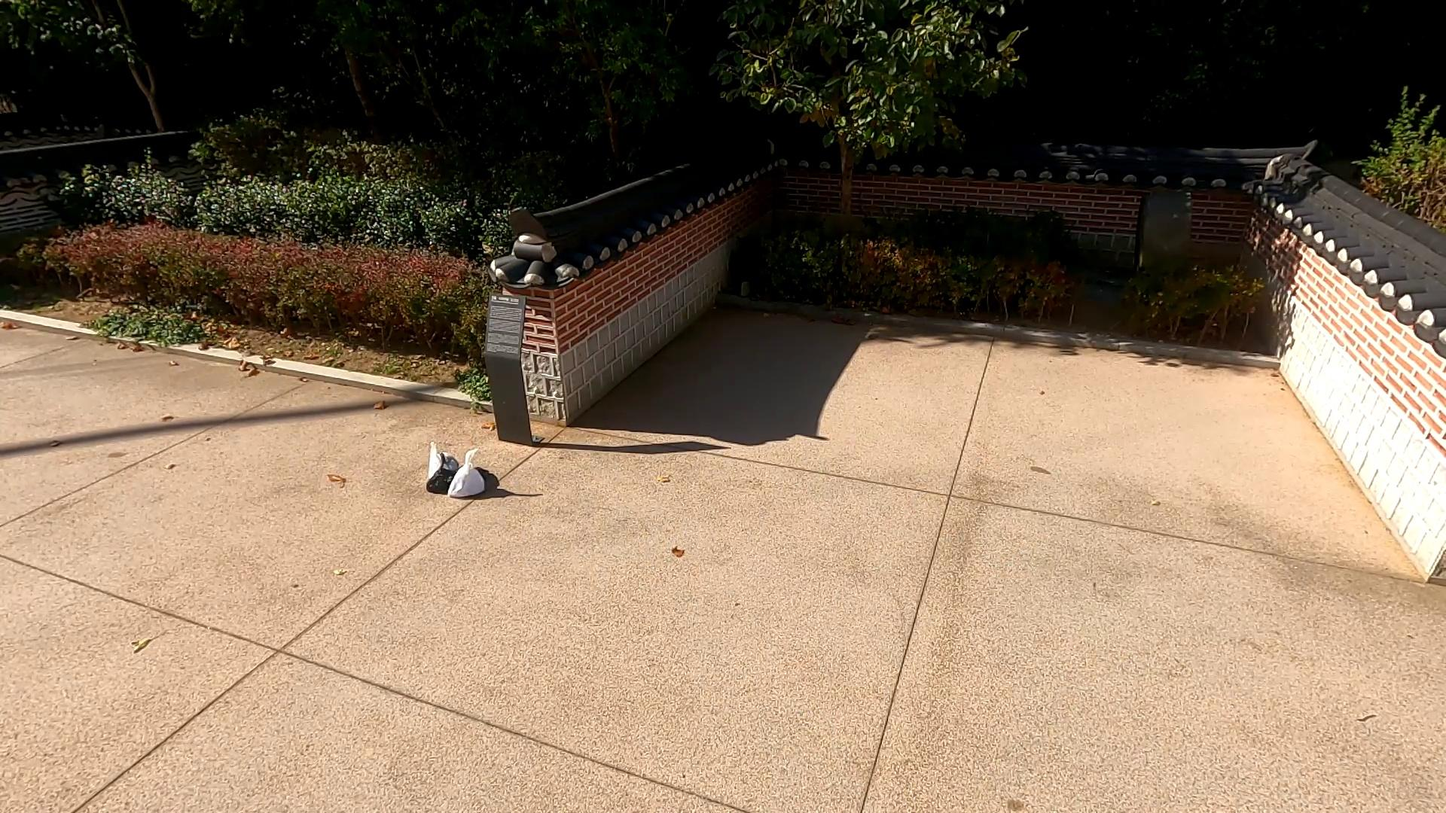trash: (442, 450, 487, 498), (418, 438, 460, 489), (458, 461, 503, 501), (420, 454, 462, 495)
